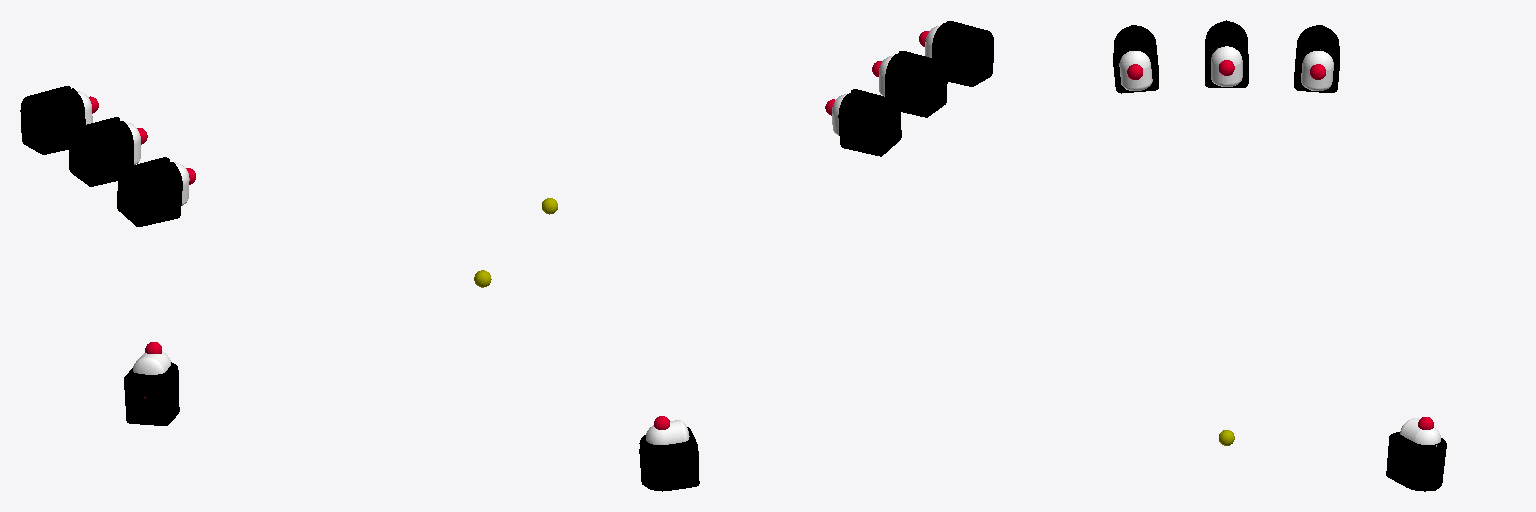
--- What the picture shows (computed from the rendered views, not written in the file) ---
3 views of the same robot in one strip: view 1: azimuth 30°, elevation 25°; view 2: azimuth 150°, elevation 25°; view 3: azimuth 270°, elevation 25° (orthographic).
Robot: allegro_hand_right — 34 links, 33 joints (16 revolute, 17 fixed); root link base_link; default pose: joints at zero except 1 at the middle of their limits (joint_12.0 = 0.8295).
Visible links, largest first — view 1: digitac_body_link_11, digitac_body_link_7, digitac_body_link_3, digitac_body_link_15, digitac_tip_link_15; view 2: digitac_body_link_3, digitac_body_link_7, digitac_body_link_11, digitac_body_link_15, digitac_tip_link_15; view 3: digitac_body_link_15, digitac_body_link_3, digitac_body_link_11, digitac_body_link_7, digitac_tip_link_7, digitac_tip_link_11, digitac_tip_link_3, digitac_tip_link_15.
Boxes of the visible links, <box> form: digitac_body_link_11: <box>117,157,182,226</box>; digitac_body_link_7: <box>69,117,133,186</box>; digitac_body_link_3: <box>20,86,85,154</box>; digitac_body_link_15: <box>124,362,179,425</box>; digitac_tip_link_15: <box>133,351,170,374</box>; digitac_body_link_3: <box>838,89,901,156</box>; digitac_body_link_7: <box>885,51,947,117</box>; digitac_body_link_11: <box>932,21,993,86</box>; digitac_body_link_15: <box>639,427,699,491</box>; digitac_tip_link_15: <box>646,420,689,444</box>; digitac_body_link_15: <box>1386,432,1446,491</box>; digitac_body_link_3: <box>1294,25,1339,92</box>; digitac_body_link_11: <box>1113,25,1158,93</box>; digitac_body_link_7: <box>1205,20,1248,87</box>; digitac_tip_link_7: <box>1211,46,1242,86</box>; digitac_tip_link_11: <box>1119,51,1152,90</box>; digitac_tip_link_3: <box>1301,49,1333,90</box>; digitac_tip_link_15: <box>1400,418,1440,446</box>.
Size in the robot's own frame: 0.2724 by 0.2042 by 0.2585 metres.
Meshes: 11 distinct files referenced, 8 mesh visuals loaded (2 OBJ); not drawn: 17 (reference not matched to a file when rendering).

URDF robot description (allegro_hand_right):
<?xml version="1.0" ?>
<!-- =================================================================================== -->
<!-- |    This document was autogenerated by xacro from allegro_hand_description_right.xacro | -->
<!-- |    EDITING THIS FILE BY HAND IS NOT RECOMMENDED                                 | -->
<!-- =================================================================================== -->
<robot name="allegro_hand_right" xmlns:xacro="http://www.ros.org/wiki/xacro">
  <!-- ======================== BASE PARAMS ========================= -->
  <!-- ======================== FINGER PARAMS ======================== -->
  <!-- full height from joint to tip. when used,
    the radius of the finger tip sphere will be subtracted
    and one fixed link will be added for the tip. -->
  <!-- ========================= THUMB PARAMS ========================= -->
  <!-- ========================= LIMITS ========================= -->
  <!-- ============================================================================= -->

  <!-- Colors -->
  <material name="DarkGrey">
    <color rgba="0.2 0.2 0.2 1.0"/>
  </material>
  <material name="Grey">
    <color rgba="0.4 0.4 0.4 1.0"/>
  </material>
  <material name="Orange">
    <color rgba="1.0 0.423529411765 0.0392156862745 1.0"/>
  </material>
  <material name="Blue">
    <color rgba="0 0.1 1.0 1.0"/>
  </material>
  <material name="LightGrey">
    <color rgba="0.7 0.7 0.7 1.0"/>
  </material>
  <material name="Red">
    <color rgba="0.9 0 0.2 1.0"/>
  </material>
  <material name="Green">
    <color rgba="0 0.9 0.5 1.0"/>
  </material>
  <material name="Yellow">
    <color rgba="0.7 0.7 0 1.0"/>
  </material>
  <material name="LightBlue">
    <color rgba="0. 0.3 1.0 1.0"/>
  </material>
  <material name="Black">
    <color rgba="0.05 0.05 0.05 1.0"/>
  </material>
  <material name="White">
    <color rgba="1.0 1.0 1.0 1.0" />
  </material>
  <material name="TacTipWhite">
   <color rgba="0.8 0.8 0.8 1.0"/>
 </material>
 <material name="TransparentRed">
   <color rgba="0.9 0 0.2 0.5"/>
 </material>


  <!-- <link name="world"/> -->

  <!-- BASE -->
  <link name="base_link">
    <visual>
      <geometry>
        <mesh filename="meshes/allegro/base_link.obj"/>
      </geometry>
      <origin rpy="0 0 0" xyz="0 0 0 "/>
      <material name="black">
        <color rgba="0.2 0.2 0.2 1"/>
      </material>
    </visual>
    <collision>
      <origin rpy="0 0 0" xyz="-0.009300 0 -0.0475"/>
      <geometry>
        <box size="0.0408 0.1130 0.095"/>
        <!-- <box size="0.01 0.01 0.01"/> -->
      </geometry>
    </collision>
    <inertial>
      <origin xyz="0 0 0.0475" rpy="0 0 0"/>
      <mass value="0.4154"/>
      <inertia ixx="1e-4" ixy="0.0" ixz="0.0" iyy="1e-4" iyz="0.0" izz="1e-4"/>
    </inertial>
  </link>
  <!-- ============================================================================= -->
  <!-- FINGERS -->
  <!-- RIGHT HAND due to which finger is number 0 -->
  <!-- for LEFT HAND switch the sign of the **offset_origin_y** and **finger_angle_r** parameters-->
  <!-- Finget [0] -->
  <link name="link_0.0">
    <visual>
      <geometry>
        <mesh filename="meshes/allegro/link_0.0.obj"/>
      </geometry>
      <material name="black"/>
    </visual>
    <collision>
      <geometry>
        <box size="0.0196 0.0275 0.0164"/>
      </geometry>
      <origin rpy="0 0 0" xyz="0 0 0.0082"/>
    </collision>
    <inertial>
      <mass value="0.0119" />
      <origin xyz="0 0 0" rpy="0 0 0"/>
      <inertia ixx="1.01666658333e-06" ixy="0.0" ixz="0.0"
               iyy="6.47677333333e-07" iyz="0.0"
               izz="1.01666658333e-06" />
    </inertial>
  </link>
  <joint name="joint_0.0" type="revolute">
    <axis xyz="0 0 1"/>
    <limit effort="10" lower="-0.47" upper="0.47" velocity="6.283"/>
    <parent link="base_link"/>
    <child link="link_0.0"/>
    <origin rpy="-0.08726646255 0 0" xyz="0 0.0435 -0.001542"/>
  </joint>
  <link name="link_1.0">
    <visual>
      <geometry>
        <mesh filename="meshes/allegro/link_1.0.obj"/>
      </geometry>
      <material name="black"/>
    </visual>
    <collision>
      <geometry>
        <box size="0.0196 0.0275 0.054"/>
      </geometry>
      <origin rpy="0 0 0" xyz="0 0 0.027"/>
    </collision>
    <inertial>
      <mass value="0.065" />
      <origin xyz="0 0 0" rpy="0 0 0"/>
      <inertia ixx="7.95654166667e-05" ixy="1.7199e-05" ixz="8.75875e-06"
               iyy="2.47088833333e-05" iyz="2.413125e-05"
               izz="7.95654166667e-05" />
    </inertial>
  </link>
  <joint name="joint_1.0" type="revolute">
    <limit effort="10" lower="-0.196" upper="1.61" velocity="6.283"/>
    <axis xyz="0 1 0"/>
    <parent link="link_0.0"/>
    <child link="link_1.0"/>
    <origin xyz="0 0 0.0164"/>
  </joint>
  <link name="link_2.0">
    <visual>
      <geometry>
        <mesh filename="meshes/allegro/link_2.0.obj"/>
      </geometry>
      <material name="black"/>
    </visual>
    <collision>
      <geometry>
        <box size="0.0196 0.0275 0.0384"/>
      </geometry>
      <origin rpy="0 0 0" xyz="0 0 0.0192"/>
    </collision>
    <inertial>
      <mass value="0.0355" />
      <origin xyz="0 0 0" rpy="0 0 0"/>
      <inertia ixx="2.63979183333e-05" ixy="6.67968e-06" ixz="4.783625e-06"
               iyy="1.34948516667e-05" iyz="9.372e-06"
               izz="2.63979183333e-05" />
    </inertial>
  </link>
  <joint name="joint_2.0" type="revolute">
    <axis xyz="0 1 0"/>
    <limit effort="10" lower="-0.174" upper="1.709" velocity="6.283"/>
    <parent link="link_1.0"/>
    <child link="link_2.0"/>
    <origin xyz="0 0 0.054"/>
  </joint>
  <link name="link_3.0">
    <visual>
      <geometry>
        <mesh filename="meshes/allegro/link_3.0.obj"/>
      </geometry>
      <material name="black"/>
    </visual>
    <collision>
      <geometry>
        <sphere radius="0.0001"/>
      </geometry>
      <origin rpy="0 0 0" xyz="0 0 0.01335"/>
    </collision>
    <inertial>
      <mass value="0.0096" />
      <origin xyz="0 0 0" rpy="0 0 0"/>
      <inertia ixx="4.701248e-06" ixy="1.255968e-06" ixz="1.2936e-06"
               iyy="3.649312e-06" iyz="1.7622e-06"
               izz="4.701248e-06" />
    </inertial>
  </link>
  <joint name="joint_3.0" type="revolute">
    <axis xyz="0 1 0"/>
    <limit effort="10" lower="-0.227" upper="1.618" velocity="6.283"/>
    <parent link="link_2.0"/>
    <child link="link_3.0"/>
    <origin xyz="0 0 0.0384"/>
  </joint>

  <!-- End Effector -->
  <link name="ee_link_3">
    <visual>
      <origin rpy="0 0 0" xyz="0 0 0"/>
      <geometry>
        <sphere radius="0.001"/>
      </geometry>
        <material name="Red"/>
    </visual>
    <collision>
      <geometry>
        <sphere radius="0.001"/>
      </geometry>
      <origin rpy="0 0 0" xyz="0.0 0 0"/>
    </collision>
    <inertial>
      <mass value="0.0"/>
      <origin rpy="-3.14 0.0 1.57" xyz="0.0 0.0 0.0"/>
      <inertia ixx="0.001" ixy="0.0" ixz="0.0" iyy="0.001" iyz="0.0" izz="0.001"/>
    </inertial>
  </link>

  <joint name="ee_joint_3" type="fixed">
    <parent link="link_3.0"/>
    <child link="ee_link_3"/>
    <origin rpy="1.57 3.14 0.0" xyz="0.0 0.0 0.0156"/>
  </joint>

  <!-- DigiTac -->
  <link name="digitac_body_link_3">
  <inertial>
      <origin
        xyz="0.0044483897843889 -0.0137570316187898 -1.33478473442024E-08+0.02"
        rpy="0 0 0" />
      <mass
        value="0.00791827593084163" />
      <inertia
        ixx="7.86145751817283E-07"
        ixy="-4.85149902505629E-09"
        ixz="4.89421524982813E-12"
        iyy="1.59818901807298E-06"
        iyz="-2.18755873901251E-12"
        izz="1.06961344577448E-06" />
    </inertial>
    <visual>
      <origin
        xyz="0 0 0.02"
        rpy="0 0 0" />
      <geometry>
        <mesh
          filename="digitac/standard_digitac/digitac_asmb/meshes/digitac_body.obj" />
      </geometry>
      <material
        name="body_color">
        <color
          rgba="0.0 0.0 0.0 1" />
      </material>
    </visual>
    <collision>
      <origin
        xyz="0 0 0.02"
        rpy="0 0 0" />
      <geometry>
        <mesh
          filename="digitac/standard_digitac/digitac_asmb/meshes/digitac_body.obj" />
      </geometry>
    </collision>
  </link>

  <joint name="digitac_ee_joint_3" type="fixed">
      <parent link="ee_link_3"/>
      <child link="digitac_body_link_3"/>
      <origin rpy="1.57 3.14 -1.57" xyz="0.009 -0.019 0.0"/>
  </joint>

      
  <link name="digitac_tip_link_3">
    <inertial>
      <origin
        xyz="1.95689617055233E-05 -0.00418318281817305 -0.00513072481258713-0.02"
        rpy="0 0 0" />
      <mass
        value="0.000211579321175967" />
      <inertia
        ixx="1.6421406108058E-08"
        ixy="-3.59682768116548E-11"
        ixz="8.26721658003392E-12"
        iyy="1.10821033019274E-08"
        iyz="-1.94916165896316E-10"
        izz="2.23470337659004E-08" />
    </inertial>
    <visual>
      <origin
        xyz="0 0 -0.02"
        rpy="0 0 0" />
      <geometry>
        <mesh
          filename="digitac/standard_digitac/digitac_asmb_hollow/meshes/digitac_core.obj" />
      </geometry>
      <material
        name="digitac_skin">
        <color
          rgba="1.0 1.0 1.0 1" />
      </material>
    </visual>
    <collision>
      <origin
        xyz="0 0 -0.02"
        rpy="0 0 0" />
      <geometry>
        <mesh
          filename="digitac/standard_digitac/digitac_asmb_hollow/meshes/digitac_core.obj" />
      </geometry>
    </collision>
  </link>

  <joint name="digitac_tip_to_body_3" type="fixed">
    <origin
      xyz="0 0 0"
      rpy="3.14159265358979 0 -1.5707963267949" />
    <parent
      link="digitac_body_link_3" />
    <child
      link="digitac_tip_link_3" />
    <axis
      xyz="0 0 0" />
  </joint>

  <!-- Link 3 TCP -->
  <link name="link_3_tcp">
    <visual>
      <origin rpy="0 0 0" xyz="0 0 0"/>
      <geometry>
        <sphere radius="0.005"/>
      </geometry>
       <material name="TransparentRed"/>
    </visual>
    <inertial>
      <mass value="0.0"/>
      <origin rpy="0.0 0.0 1.57" xyz="0.0 0.0 0.0"/>
      <inertia ixx="1.0" ixy="0.0" ixz="0.0" iyy="1.0" iyz="0.0" izz="1.0"/>
    </inertial>
  </link>

  <joint name="joint_3_tcp" type="fixed">
    <parent link="digitac_body_link_3"/>
    <child link="link_3_tcp"/>
    <origin rpy="1.57 0 -1.57" xyz="0.0007 0.0 0.031"/>
  </joint>

  <!-- Finger [4] -->
  <link name="link_4.0">
    <visual>
      <geometry>
        <mesh filename="meshes/allegro/link_0.0.obj"/>
      </geometry>
      <material name="black"/>
    </visual>
    <collision>
      <geometry>
        <box size="0.0196 0.0275 0.0164"/>
      </geometry>
      <origin rpy="0 0 0" xyz="0 0 0.0082"/>
    </collision>
    <inertial>
      <mass value="0.0119" />
      <origin xyz="0 0 0" rpy="0 0 0"/>
      <inertia ixx="1.01666658333e-06" ixy="0.0" ixz="0.0"
               iyy="6.47677333333e-07" iyz="0.0"
               izz="1.01666658333e-06" />
    </inertial>
  </link>
  <joint name="joint_4.0" type="revolute">
    <axis xyz="0 0 1"/>
    <limit effort="10" lower="-0.47" upper="0.47" velocity="6.283"/>
    <parent link="base_link"/>
    <child link="link_4.0"/>
    <origin rpy="0.0 0 0" xyz="0 0 0.0007"/>
  </joint>
  <link name="link_5.0">
    <visual>
      <geometry>
        <mesh filename="meshes/allegro/link_1.0.obj"/>
      </geometry>
      <material name="black"/>
    </visual>
    <collision>
      <geometry>
        <box size="0.0196 0.0275 0.054"/>
      </geometry>
      <origin rpy="0 0 0" xyz="0 0 0.027"/>
    </collision>
    <inertial>
      <mass value="0.065" />
      <origin xyz="0 0 0" rpy="0 0 0"/>
      <inertia ixx="7.95654166667e-05" ixy="1.7199e-05" ixz="8.75875e-06"
               iyy="2.47088833333e-05" iyz="2.413125e-05"
               izz="7.95654166667e-05" />
    </inertial>
  </link>
  <joint name="joint_5.0" type="revolute">
    <limit effort="10" lower="-0.196" upper="1.61" velocity="6.283"/>
    <axis xyz="0 1 0"/>
    <parent link="link_4.0"/>
    <child link="link_5.0"/>
    <origin xyz="0 0 0.0164"/>
  </joint>
  <link name="link_6.0">
    <visual>
      <geometry>
        <mesh filename="meshes/allegro/link_2.0.obj"/>
      </geometry>
      <material name="black"/>
    </visual>
    <collision>
      <geometry>
        <box size="0.0196 0.0275 0.0384"/>
      </geometry>
      <origin rpy="0 0 0" xyz="0 0 0.0192"/>
    </collision>
    <inertial>
      <mass value="0.0355" />
      <origin xyz="0 0 0" rpy="0 0 0"/>
      <inertia ixx="2.63979183333e-05" ixy="6.67968e-06" ixz="4.783625e-06"
               iyy="1.34948516667e-05" iyz="9.372e-06"
               izz="2.63979183333e-05" />
    </inertial>
  </link>
  <joint name="joint_6.0" type="revolute">
    <axis xyz="0 1 0"/>
    <limit effort="10" lower="-0.174" upper="1.709" velocity="6.283"/>
    <parent link="link_5.0"/>
    <child link="link_6.0"/>
    <origin xyz="0 0 0.054"/>
  </joint>
  <link name="link_7.0">
    <visual>
      <geometry>
        <mesh filename="meshes/allegro/link_3.0.obj"/>
      </geometry>
      <material name="black"/>
    </visual>
    <collision>
      <geometry>
        <sphere radius="0.0001"/>
      </geometry>
      <origin rpy="0 0 0" xyz="0 0 0.01335"/>
    </collision>
    <inertial>
      <mass value="0.0096" />
      <origin xyz="0 0 0" rpy="0 0 0"/>
      <inertia ixx="4.701248e-06" ixy="1.255968e-06" ixz="1.2936e-06"
               iyy="3.649312e-06" iyz="1.7622e-06"
               izz="4.701248e-06" />
    </inertial>
  </link>
  <joint name="joint_7.0" type="revolute">
    <axis xyz="0 1 0"/>
    <limit effort="10" lower="-0.227" upper="1.618" velocity="6.283"/>
    <parent link="link_6.0"/>
    <child link="link_7.0"/>
    <origin xyz="0 0 0.0384"/>
  </joint>

  <!-- End Effector -->
  <link name="ee_link_7">
    <visual>
      <origin rpy="0 0 0" xyz="0 0 0"/>
      <geometry>
        <sphere radius="0.001"/>
      </geometry>
        <material name="Red"/>
    </visual>
    <collision>
      <geometry>
        <sphere radius="0.001"/>
      </geometry>
      <origin rpy="0 0 0" xyz="0.0 0 0"/>
    </collision>
    <inertial>
      <mass value="0.0"/>
      <origin rpy="-3.14 0.0 1.57" xyz="0.0 0.0 0.0"/>
      <inertia ixx="0.001" ixy="0.0" ixz="0.0" iyy="0.001" iyz="0.0" izz="0.001"/>
    </inertial>
  </link>

  <joint name="ee_joint_7" type="fixed">
    <parent link="link_7.0"/>
    <child link="ee_link_7"/>
    <origin rpy="1.57 3.14 0.0" xyz="0.0 0.0 0.0156"/>
  </joint>

  <!-- DigiTac -->
  <link name="digitac_body_link_7">
  <inertial>
      <origin
        xyz="0.0044483897843889 -0.0137570316187898 -1.33478473442024E-08+0.02"
        rpy="0 0 0" />
      <mass
        value="0.00791827593084163" />
      <inertia
        ixx="7.86145751817283E-07"
        ixy="-4.85149902505629E-09"
        ixz="4.89421524982813E-12"
        iyy="1.59818901807298E-06"
        iyz="-2.18755873901251E-12"
        izz="1.06961344577448E-06" />
    </inertial>
    <visual>
      <origin
        xyz="0 0 0.02"
        rpy="0 0 0" />
      <geometry>
        <mesh
          filename="digitac/standard_digitac/digitac_asmb/meshes/digitac_body.obj" />
      </geometry>
      <material
        name="body_color">
        <color
          rgba="0.0 0.0 0.0 1" />
      </material>
    </visual>
    <collision>
      <origin
        xyz="0 0 0.02"
        rpy="0 0 0" />
      <geometry>
        <mesh
          filename="digitac/standard_digitac/digitac_asmb/meshes/digitac_body.obj" />
      </geometry>
    </collision>
  </link>

  <joint name="digitac_ee_joint_7" type="fixed">
      <parent link="ee_link_7"/>
      <child link="digitac_body_link_7"/>
      <origin rpy="1.57 3.14 -1.57" xyz="0.009 -0.019 0.0"/>
  </joint>

      
  <link name="digitac_tip_link_7">
    <inertial>
      <origin
        xyz="1.95689617055233E-05 -0.00418318281817305 -0.00513072481258713-0.02"
        rpy="0 0 0" />
      <mass
        value="0.000211579321175967" />
      <inertia
        ixx="1.6421406108058E-08"
        ixy="-3.59682768116548E-11"
        ixz="8.26721658003392E-12"
        iyy="1.10821033019274E-08"
        iyz="-1.94916165896316E-10"
        izz="2.23470337659004E-08" />
    </inertial>
    <visual>
      <origin
        xyz="0 0 -0.02"
        rpy="0 0 0" />
      <geometry>
        <mesh
          filename="digitac/standard_digitac/digitac_asmb_hollow/meshes/digitac_core.obj" />
      </geometry>
      <material
        name="digitac_skin">
        <color
          rgba="1.0 1.0 1.0 1" />
      </material>
    </visual>
    <collision>
      <origin
        xyz="0 0 -0.02"
        rpy="0 0 0" />
      <geometry>
        <mesh
          filename="digitac/standard_digitac/digitac_asmb_hollow/meshes/digitac_core.obj" />
      </geometry>
    </collision>
  </link>

  <joint name="digitac_tip_to_body_7" type="fixed">
    <origin
      xyz="0 0 0"
      rpy="3.14159265358979 0 -1.5707963267949" />
    <parent
      link="digitac_body_link_7" />
    <child
      link="digitac_tip_link_7" />
    <axis
      xyz="0 0 0" />
  </joint>

  <!-- Link 7 TCP -->
  <link name="link_7_tcp">
    <visual>
      <origin rpy="0 0 0" xyz="0 0 0"/>
      <geometry>
        <sphere radius="0.005"/>
      </geometry>
       <material name="TransparentRed"/>
    </visual>
    <inertial>
      <mass value="0.0"/>
      <origin rpy="0.0 0.0 1.57" xyz="0.0 0.0 0.0"/>
      <inertia ixx="1.0" ixy="0.0" ixz="0.0" iyy="1.0" iyz="0.0" izz="1.0"/>
    </inertial>
  </link>

  <joint name="joint_7_tcp" type="fixed">
    <parent link="digitac_body_link_7"/>
    <child link="link_7_tcp"/>
    <origin rpy="1.57 0 -1.57" xyz="0.0007 0.0 0.031"/>
  </joint>

  <!-- Finger [8]-->
  <link name="link_8.0">
    <visual>
      <geometry>
        <mesh filename="meshes/allegro/link_0.0.obj"/>
      </geometry>
      <material name="black"/>
    </visual>
    <collision>
      <geometry>
        <box size="0.0196 0.0275 0.0164"/>
      </geometry>
      <origin rpy="0 0 0" xyz="0 0 0.0082"/>
    </collision>
    <inertial>
      <mass value="0.0119" />
      <origin xyz="0 0 0" rpy="0 0 0"/>
      <inertia ixx="1.01666658333e-06" ixy="0.0" ixz="0.0"
               iyy="6.47677333333e-07" iyz="0.0"
               izz="1.01666658333e-06" />
    </inertial>
  </link>
  <joint name="joint_8.0" type="revolute">
    <axis xyz="0 0 1"/>
    <limit effort="10" lower="-0.47" upper="0.47" velocity="6.283"/>
    <parent link="base_link"/>
    <child link="link_8.0"/>
    <origin rpy="0.08726646255 0 0" xyz="0 -0.0435 -0.001542"/>
  </joint>
  <link name="link_9.0">
    <visual>
      <geometry>
        <mesh filename="meshes/allegro/link_1.0.obj"/>
      </geometry>
      <material name="black"/>
    </visual>
    <collision>
      <geometry>
        <box size="0.0196 0.0275 0.054"/>
      </geometry>
      <origin rpy="0 0 0" xyz="0 0 0.027"/>
    </collision>
    <inertial>
      <mass value="0.065" />
      <origin xyz="0 0 0" rpy="0 0 0"/>
      <inertia ixx="7.95654166667e-05" ixy="1.7199e-05" ixz="8.75875e-06"
               iyy="2.47088833333e-05" iyz="2.413125e-05"
               izz="7.95654166667e-05" />
    </inertial>
  </link>
  <joint name="joint_9.0" type="revolute">
    <limit effort="10" lower="-0.196" upper="1.61" velocity="6.283"/>
    <axis xyz="0 1 0"/>
    <parent link="link_8.0"/>
    <child link="link_9.0"/>
    <origin xyz="0 0 0.0164"/>
  </joint>
  <link name="link_10.0">
    <visual>
      <geometry>
        <mesh filename="meshes/allegro/link_2.0.obj"/>
      </geometry>
      <material name="black"/>
    </visual>
    <collision>
      <geometry>
        <box size="0.0196 0.0275 0.0384"/>
      </geometry>
      <origin rpy="0 0 0" xyz="0 0 0.0192"/>
    </collision>
    <inertial>
      <mass value="0.0355" />
      <origin xyz="0 0 0" rpy="0 0 0"/>
      <inertia ixx="2.63979183333e-05" ixy="6.67968e-06" ixz="4.783625e-06"
               iyy="1.34948516667e-05" iyz="9.372e-06"
               izz="2.63979183333e-05" />
    </inertial>
  </link>
  <joint name="joint_10.0" type="revolute">
    <axis xyz="0 1 0"/>
    <limit effort="10" lower="-0.174" upper="1.709" velocity="6.283"/>
    <parent link="link_9.0"/>
    <child link="link_10.0"/>
    <origin xyz="0 0 0.054"/>
  </joint>
  <link name="link_11.0">
    <visual>
      <geometry>
        <mesh filename="meshes/allegro/link_3.0.obj"/>
      </geometry>
      <material name="black"/>
    </visual>
    <collision>
      <geometry>
        <sphere radius="0.0001"/>
      </geometry>
      <origin rpy="0 0 0" xyz="0 0 0.01335"/>
    </collision>
    <inertial>
      <mass value="0.0096" />
      <origin xyz="0 0 0" rpy="0 0 0"/>
      <inertia ixx="4.701248e-06" ixy="1.255968e-06" ixz="1.2936e-06"
               iyy="3.649312e-06" iyz="1.7622e-06"
               izz="4.701248e-06" />
    </inertial>
  </link>
  <joint name="joint_11.0" type="revolute">
    <axis xyz="0 1 0"/>
    <limit effort="10" lower="-0.227" upper="1.618" velocity="6.283"/>
    <parent link="link_10.0"/>
    <child link="link_11.0"/>
    <origin xyz="0 0 0.0384"/>
  </joint>

  <!-- End effector -->
  <link name="ee_link_11">
    <visual>
      <origin rpy="0 0 0" xyz="0 0 0"/>
      <geometry>
        <sphere radius="0.001"/>
      </geometry>
        <material name="Red"/>
    </visual>
    <collision>
      <geometry>
        <sphere radius="0.001"/>
      </geometry>
      <origin rpy="0 0 0" xyz="0.0 0 0"/>
    </collision>
    <inertial>
      <mass value="0.0"/>
      <origin rpy="-3.14 0.0 1.57" xyz="0.0 0.0 0.0"/>
      <inertia ixx="0.001" ixy="0.0" ixz="0.0" iyy="0.001" iyz="0.0" izz="0.001"/>
    </inertial>
  </link>

  <joint name="ee_joint_11" type="fixed">
    <parent link="link_11.0"/>
    <child link="ee_link_11"/>
    <origin rpy="1.57 3.14 0.0" xyz="0.0 0.0 0.0156"/>
  </joint>

    <!-- DigiTac -->
  <link name="digitac_body_link_11">
  <inertial>
      <origin
        xyz="0.0044483897843889 -0.0137570316187898 -1.33478473442024E-08+0.02"
        rpy="0 0 0" />
      <mass
        value="0.00791827593084163" />
      <inertia
        ixx="7.86145751817283E-07"
        ixy="-4.85149902505629E-09"
        ixz="4.89421524982813E-12"
        iyy="1.59818901807298E-06"
        iyz="-2.18755873901251E-12"
        izz="1.06961344577448E-06" />
    </inertial>
    <visual>
      <origin
        xyz="0 0 0.02"
        rpy="0 0 0" />
      <geometry>
        <mesh
          filename="digitac/standard_digitac/digitac_asmb/meshes/digitac_body.obj" />
      </geometry>
      <material
        name="body_color">
        <color
          rgba="0.0 0.0 0.0 1" />
      </material>
    </visual>
    <collision>
      <origin
        xyz="0 0 0.02"
        rpy="0 0 0" />
      <geometry>
        <mesh
          filename="digitac/standard_digitac/digitac_asmb/meshes/digitac_body.obj" />
      </geometry>
    </collision>
  </link>

  <joint name="digitac_ee_joint_11" type="fixed">
      <parent link="ee_link_11"/>
      <child link="digitac_body_link_11"/>
      <origin rpy="1.57 3.14 -1.57" xyz="0.009 -0.019 0.0"/>
  </joint>

  <link name="digitac_tip_link_11">
    <inertial>
      <origin
        xyz="1.95689617055233E-05 -0.00418318281817305 -0.00513072481258713-0.02"
        rpy="0 0 0" />
      <mass
        value="0.000211579321175967" />
      <inertia
        ixx="1.6421406108058E-08"
        ixy="-3.59682768116548E-11"
        ixz="8.26721658003392E-12"
        iyy="1.10821033019274E-08"
        iyz="-1.94916165896316E-10"
        izz="2.23470337659004E-08" />
    </inertial>
    <visual>
      <origin
        xyz="0 0 -0.02"
        rpy="0 0 0" />
      <geometry>
        <mesh
          filename="digitac/standard_digitac/digitac_asmb_hollow/meshes/digitac_core.obj" />
      </geometry>
      <material
        name="digitac_skin">
        <color
          rgba="1.0 1.0 1.0 1" />
      </material>
    </visual>
    <collision>
      <origin
        xyz="0 0 -0.02"
        rpy="0 0 0" />
      <geometry>
        <mesh
          filename="digitac/standard_digitac/digitac_asmb_hollow/meshes/digitac_core.obj" />
      </geometry>
    </collision>
  </link>

  <joint name="digitac_tip_to_body_11" type="fixed">
    <origin
      xyz="0 0 0"
      rpy="3.14159265358979 0 -1.5707963267949" />
    <parent
      link="digitac_body_link_11" />
    <child
      link="digitac_tip_link_11" />
    <axis
      xyz="0 0 0" />
  </joint>


  <!-- Link 11 TCP -->
  <link name="link_11_tcp">
    <visual>
      <origin rpy="0 0 0" xyz="0 0 0"/>
      <geometry>
        <sphere radius="0.005"/>
      </geometry>
       <material name="TransparentRed"/>
    </visual>
    <inertial>
      <mass value="0.0"/>
      <origin rpy="0.0 0.0 1.57" xyz="0.0 0.0 0.0"/>
      <inertia ixx="1.0" ixy="0.0" ixz="0.0" iyy="1.0" iyz="0.0" izz="1.0"/>
    </inertial>
  </link>

  <joint name="joint_11_tcp" type="fixed">
    <parent link="digitac_body_link_11"/>
    <child link="link_11_tcp"/>
    <origin rpy="1.57 0 -1.57" xyz="0.0007 0.0 0.031"/>
  </joint>
  
  <!-- THUMB -->
  <link name="link_12.0">
    <visual>
      <geometry>
        <mesh filename="meshes/allegro/link_12.0_right.obj"/>
      </geometry>
      <material name="black">
        <color rgba=".2 .2 .2 1"/>
      </material>
      <origin rpy="0 0 0" xyz="0 0 0"/>
    </visual>
    <collision>
      <geometry>
        <box size="0.0358 0.034 0.0455"/>
      </geometry>
      <origin rpy="0 0 0" xyz="-0.0179 0.009 0.0145"/>
    </collision>
    <inertial>
      <mass value="0.0176" />
      <origin xyz="0 0 0" rpy="0 0 0"/>
      <inertia ixx="1.89273333333e-5" ixy="7.16716e-06" ixz="5.35568e-06"
               iyy="1.43008213333e-05" iyz="6.8068e-06"
               izz="1.89273333333e-05" />
    </inertial>
  </link>
  <joint name="joint_12.0" type="revolute">
    <axis xyz="-1 0 0"/>
    <limit effort="10" lower="0.263" upper="1.396" velocity="6.283"/>
    <parent link="base_link"/>
    <child link="link_12.0"/>
    <origin rpy="0 -1.65806278845 -1.5707963259" xyz="-0.0182 0.019333 -0.045987"/>
  </joint>
  <link name="link_13.0">
    <visual>
      <geometry>
        <mesh filename="meshes/allegro/link_13.0.obj"/>
      </geometry>
      <material name="black">
        <color rgba=".2 .2 .2 1"/>
      </material>
    </visual>
    <collision>
      <geometry>
        <box size="0.0196 0.0275 0.0177"/>
      </geometry>
      <origin rpy="0 0 0" xyz="0 0 0.00885"/>
    </collision>
    <inertial>
      <mass value="0.0119" />
      <origin xyz="0 0 0" rpy="0 0 0"/>
      <inertia ixx="4.24250866667e-06" ixy="1.032087e-06" ixz="1.603525e-06"
               iyy="4.52362633333e-06" iyz="1.44808125e-06"
               izz="4.24250866667e-06" />
    </inertial>
  </link>
  <joint name="joint_13.0" type="revolute">
    <axis xyz="0 0 1"/>
    <limit effort="10" lower="-0.105" upper="1.163" velocity="6.283"/>
    <parent link="link_12.0"/>
    <child link="link_13.0"/>
    <!-- RIGHT -->
    <origin xyz="-0.027 0.005 0.0399"/>
    <!-- LEFT -->
    <!-- <origin xyz="-0.027 -0.005 0.0399"/> -->
  </joint>
  <link name="link_14.0">
    <visual>
      <geometry>
        <mesh filename="meshes/allegro/link_14.0.obj"/>
      </geometry>
      <material name="black">
      </material>
    </visual>
    <collision>
      <geometry>
        <box size="0.0196 0.0275 0.0514"/>
      </geometry>
      <origin rpy="0 0 0" xyz="0 0 0.0257"/>
    </collision>
    <inertial>
      <mass value="0.038" />
      <origin xyz="0 0 0" rpy="0 0 0"/>
      <inertia ixx="4.30439933333e-05" ixy="9.57068e-06" ixz="5.1205e-06" iyy="1.44451933333e-05"
               iyz="1.342825e-05" izz="4.30439933333e-05" />
    </inertial>
  </link>
  <joint name="joint_14.0" type="revolute">
    <axis xyz="0 1 0"/>
    <limit effort="10" lower="-0.189" upper="1.644" velocity="6.283"/>
    <parent link="link_13.0"/>
    <child link="link_14.0"/>
    <origin xyz="0 0 0.0177"/>
  </joint>
  <link name="link_15.0">
    <visual>
      <geometry>
        <mesh filename="meshes/allegro/link_15.0.obj"/>
      </geometry>
      <material name="black">
      </material>
    </visual>
    <collision>
      <geometry>
        <sphere radius="0.0001"/>
      </geometry>
      <origin rpy="0 0 0" xyz="0 0 0.02115"/>
    </collision>
    <inertial>
      <mass value="0.0388" />
      <origin xyz="0 0 0" rpy="0 0 0"/>
      <inertia ixx="3.29223173333e-05" ixy="8.042076e-06" ixz="5.2283e-06"
               iyy="1.47493026667e-5" iyz="1.1283525e-5"
               izz="3.29223173333e-05" />
    </inertial>
  </link>
  <joint name="joint_15.0" type="revolute">
    <axis xyz="0 1 0"/>
    <limit effort="10" lower="-0.162" upper="1.719" velocity="6.283"/>
    <parent link="link_14.0"/>
    <child link="link_15.0"/>
    <origin xyz="0 0 0.0514"/>
  </joint>

  <!-- End Effector -->
  <link name="ee_link_15">
    <visual>
      <origin rpy="0 0 0" xyz="0 0 0"/>
      <geometry>
        <sphere radius="0.001"/>
      </geometry>
        <material name="Red"/>
    </visual>
    <collision>
      <geometry>
        <sphere radius="0.001"/>
      </geometry>
      <origin rpy="0 0 0" xyz="0.0 0 0"/>
    </collision>
    <inertial>
      <mass value="0.0"/>
      <origin rpy="-3.14 0.0 1.57" xyz="0.0 0.0 0.0"/>
      <inertia ixx="0.001" ixy="0.0" ixz="0.0" iyy="0.001" iyz="0.0" izz="0.001"/>
    </inertial>
  </link>

  <joint name="ee_joint_15" type="fixed">
    <parent link="link_15.0"/>
    <child link="ee_link_15"/>
    <origin rpy="1.57 3.14 0.0" xyz="0.0 0.0 0.0313"/>
  </joint>


  <!-- DigiTac -->
  <link name="digitac_body_link_15">
  <inertial>
      <origin
        xyz="0.0044483897843889 -0.0137570316187898 -1.33478473442024E-08+0.02"
        rpy="0 0 0" />
      <mass
        value="0.00791827593084163" />
      <inertia
        ixx="7.86145751817283E-07"
        ixy="-4.85149902505629E-09"
        ixz="4.89421524982813E-12"
        iyy="1.59818901807298E-06"
        iyz="-2.18755873901251E-12"
        izz="1.06961344577448E-06" />
    </inertial>
    <visual>
      <origin
        xyz="0 0 0.02"
        rpy="0 0 0" />
      <geometry>
        <mesh
          filename="digitac/standard_digitac/digitac_asmb/meshes/digitac_body.obj" />
      </geometry>
      <material
        name="body_color">
        <color
          rgba="0.0 0.0 0.0 1" />
      </material>
    </visual>
    <collision>
      <origin
        xyz="0 0 0.02"
        rpy="0 0 0" />
      <geometry>
        <mesh
          filename="digitac/standard_digitac/digitac_asmb/meshes/digitac_body.obj" />
      </geometry>
    </collision>
  </link>

    <joint name="digitac_ee_joint_15" type="fixed">
        <parent link="ee_link_15"/>
        <child link="digitac_body_link_15"/>
        <origin rpy="1.57 3.14 -1.57" xyz="0.009 -0.019 0.0"/>
    </joint>

      
  <link name="digitac_tip_link_15">
    <inertial>
      <origin
        xyz="1.95689617055233E-05 -0.00418318281817305 -0.00513072481258713-0.02"
        rpy="0 0 0" />
      <mass
        value="0.000211579321175967" />
      <inertia
        ixx="1.6421406108058E-08"
        ixy="-3.59682768116548E-11"
        ixz="8.26721658003392E-12"
        iyy="1.10821033019274E-08"
        iyz="-1.94916165896316E-10"
        izz="2.23470337659004E-08" />
    </inertial>
    <visual>
      <origin
        xyz="0 0 -0.02"
        rpy="0 0 0" />
      <geometry>
        <mesh
          filename="digitac/standard_digitac/digitac_asmb_hollow/meshes/digitac_core.obj" />
      </geometry>
      <material
        name="digitac_skin">
        <color
          rgba="1.0 1.0 1.0 1" />
      </material>
    </visual>
    <collision>
      <origin
        xyz="0 0 -0.02"
        rpy="0 0 0" />
      <geometry>
        <mesh
          filename="digitac/standard_digitac/digitac_asmb_hollow/meshes/digitac_core.obj" />
      </geometry>
    </collision>
  </link>

  <joint name="digitac_tip_to_body_15" type="fixed">
    <origin
      xyz="0 0 0"
      rpy="3.14159265358979 0 -1.5707963267949" />
    <parent
      link="digitac_body_link_15" />
    <child
      link="digitac_tip_link_15" />
    <axis
      xyz="0 0 0" />
  </joint>


  <!-- Link 15 TCP -->
  <link name="link_15_tcp">
    <visual>
      <origin rpy="0 0 0" xyz="0 0 0"/>
      <geometry>
        <sphere radius="0.005"/>
      </geometry>
       <material name="TransparentRed"/>
    </visual>
    <inertial>
      <mass value="0.0"/>
      <origin rpy="0.0 0.0 1.57" xyz="0.0 0.0 0.0"/>
      <inertia ixx="1.0" ixy="0.0" ixz="0.0" iyy="1.0" iyz="0.0" izz="1.0"/>
    </inertial>
  </link>

  <joint name="joint_15_tcp" type="fixed">
    <parent link="digitac_body_link_15"/>
    <child link="link_15_tcp"/>
    <origin rpy="1.57 0 -1.57" xyz="0.0007 0.0 0.031"/>
  </joint>


  <!-- Pivot Point -->
  <link name="pivot_point_link">
    <visual>
      <origin rpy="0 0 0" xyz="0 0 0"/>
      <geometry>
        <sphere radius="0.005"/>
      </geometry>
       <material name="Yellow"/>
    </visual>
    <inertial>
      <mass value="0.0"/>
      <origin rpy="0.0 0.0 0.0" xyz="0.0 0.0 0.0"/>
      <inertia ixx="1.0" ixy="0.0" ixz="0.0" iyy="1.0" iyz="0.0" izz="1.0"/>
    </inertial>
  </link>

  <joint name="pivot_point_joint" type="fixed">
    <parent link="base_link"/>
    <child link="pivot_point_link"/>
    <origin rpy="-1.57 0.0 -1.57" xyz="0.25 0.0 0.0"/>
  </joint>


  <!-- ============================================================================= -->
  <!-- THUMB MACRO -->
  <!-- END THUMB MACRO -->
  <!-- THREE FINGER MACRO -->
  <!-- [[END]] THREE FINGER MACRO -->
</robot>
